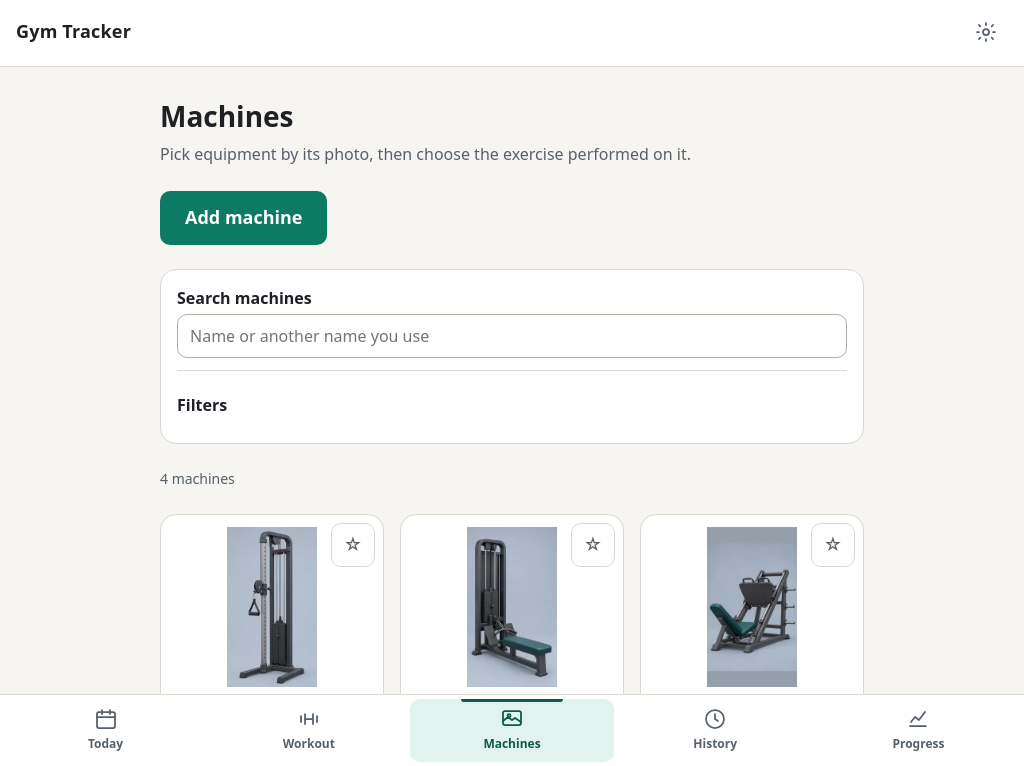
Test: the low cable row station › shows what is confirmed and what is not
Click the link with aria-label "Open Low cable row station": (512, 621) [413,527,611,715]
(page scrolled)
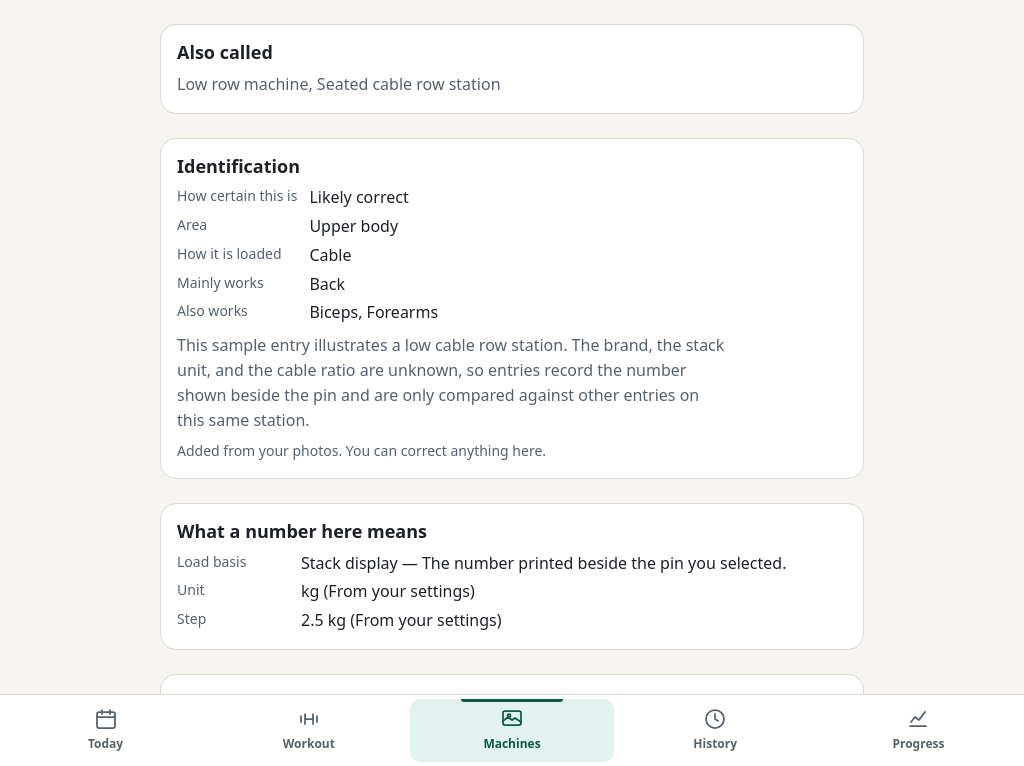
Check: the text "Likely correct" is shown, box [309,186,409,208]
Check: the text "The brand, the stack unit, and the cable ratio are unknown" is shown, box [177,334,724,430]
